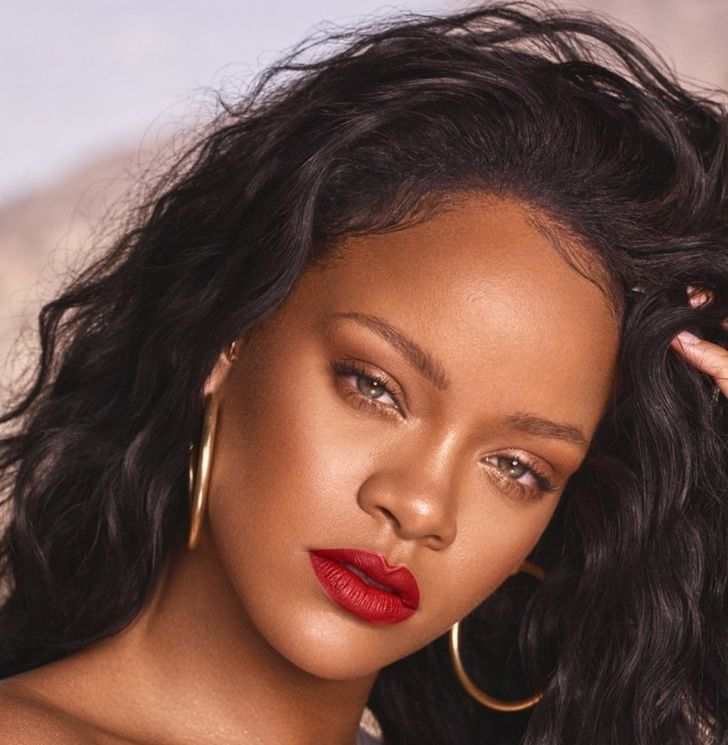NoMask: (248, 299, 587, 679)
